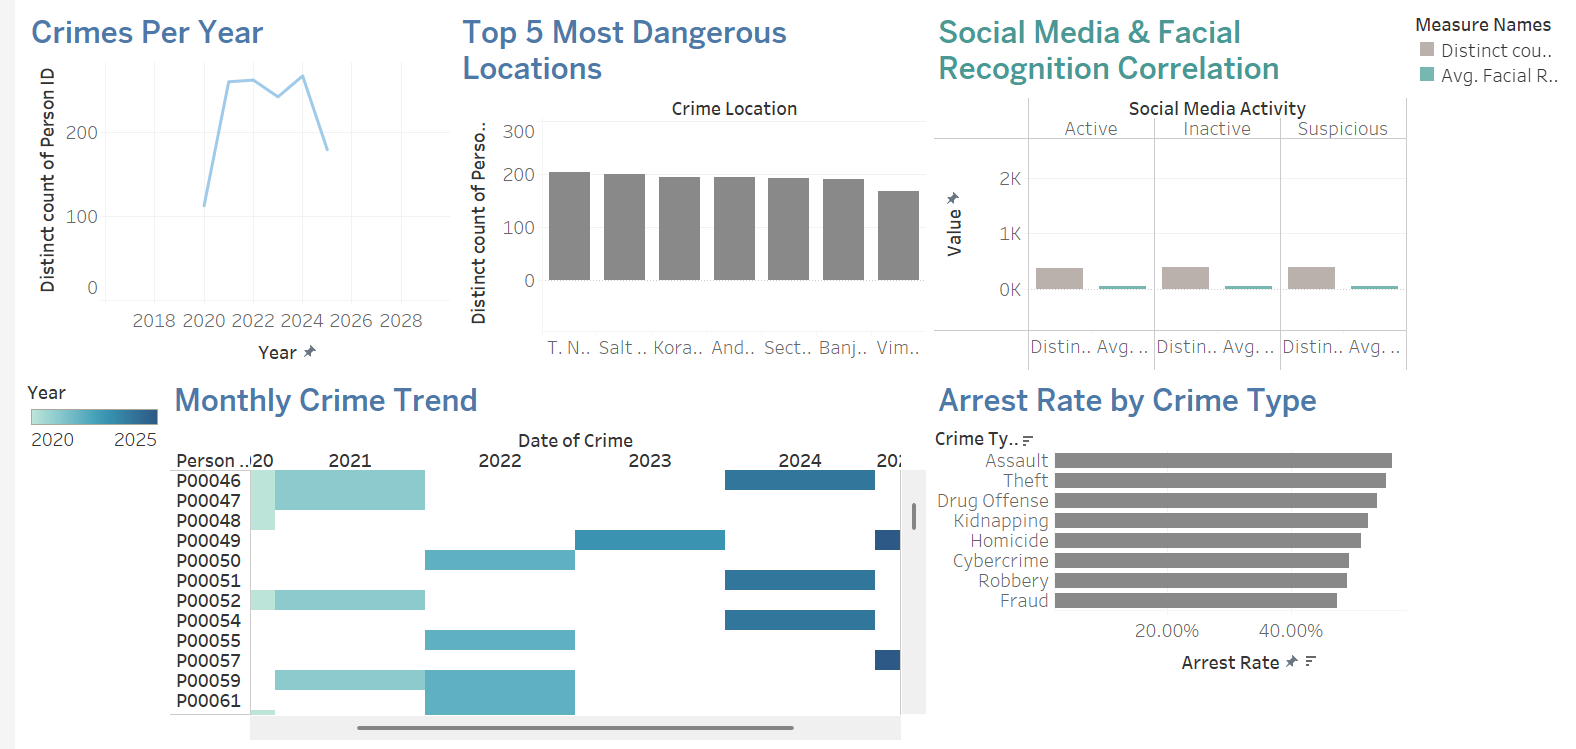

The page's visual inventory and layout, read from the dashboard file:
{"tool":"tableau","page":{"name":"Dashboard 2","canvas":[1000,1000],"units":"permille","ordinal":1},"visuals":[{"type":"worksheet","title":"Sheet 1","mark":"Automatic","rows":["Person_ID"],"cols":["Year"],"box":[5.1,10.6,275.6,489.4]},{"type":"worksheet","title":"Sheet 3","mark":"Automatic","rows":["Person_ID"],"cols":["Crime_Location"],"box":[280.7,10.6,304.4,489.4]},{"type":"worksheet","title":"Sheet 4","mark":"Automatic","cols":["Social_Media_Activity"],"box":[585,10.6,307.5,489.4]},{"type":"legend","title":"Sheet 4","param":"[federated.1bmyzeg0eskow71fejpdh0n21pib].[:Measure Names]","box":[892.6,10.6,102.3,111.5]},{"type":"legend","title":"Sheet 6","param":"[federated.1bmyzeg0eskow71fejpdh0n21pib].[none:Year:qk]","box":[5.1,500,91.4,489.4]},{"type":"worksheet","title":"Sheet 6","mark":"Automatic","rows":["Person_ID"],"cols":["Date_of_Crime"],"box":[96.5,500,488.5,489.4]},{"type":"worksheet","title":"Sheet 2","mark":"Automatic","rows":["Crime_Type"],"cols":["Calculation_2221400558558597120"],"box":[585,500,307.5,489.4]}]}

Visuals, with their boxes on the dashboard's canvas, which has no fixed pixel size, in thousandths of its width and height (x1, y1, x2, y2). These are canvas units, not pixel positions in the 1576x749 screenshot, which may show the page scaled, cropped or inside an application window:
"Sheet 1" worksheet: [5,11,281,500]
"Sheet 3" worksheet: [281,11,585,500]
"Sheet 4" worksheet: [585,11,892,500]
"Sheet 4" legend: [893,11,995,122]
"Sheet 6" legend: [5,500,96,989]
"Sheet 6" worksheet: [96,500,585,989]
"Sheet 2" worksheet: [585,500,892,989]
